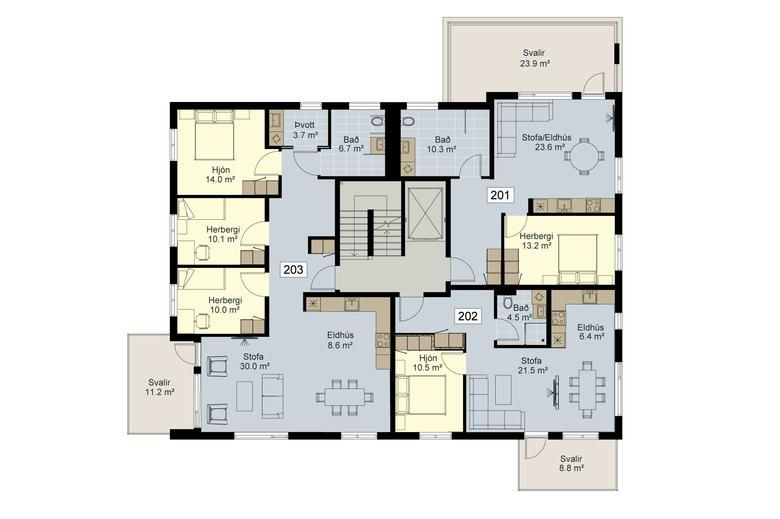room: (191, 290, 396, 440), (486, 87, 623, 291), (461, 283, 624, 442), (169, 101, 283, 199), (391, 332, 467, 442), (392, 101, 495, 180), (393, 100, 494, 180), (168, 264, 270, 340), (169, 194, 271, 269), (327, 100, 391, 182), (493, 285, 552, 349), (263, 101, 333, 152)
